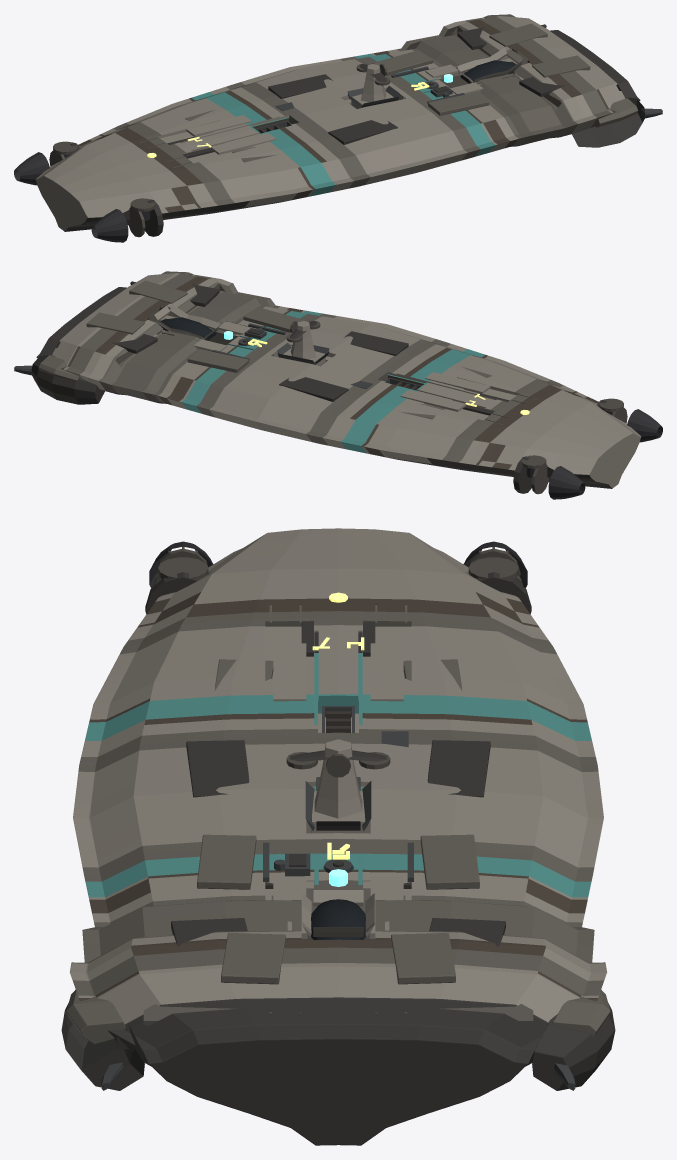
Rendered from ranger_c6_lod0.glb.
3 renders of one model, top to bottom at view 1: azimuth 30°, elevation 25°; view 2: azimuth 150°, elevation 25°; view 3: azimuth 270°, elevation 25°, orthographic. The views are drawn at different scales.
Parts seen in each view (by area): view 1: LOD0_Hull, LOD0_Collar_Port, LOD0_GunAft_Port, LOD0_Bell_Port, LOD0_Dish_Fore, LOD0_Bell_Stbd, LOD0_GunForeBrow_Port, LOD0_Glass; view 2: LOD0_Hull, LOD0_Collar_Port, LOD0_GunAft_Port, LOD0_Bell_Stbd, LOD0_Dish_Fore, LOD0_Bell_Port, LOD0_Glass, LOD0_GunForeBrow_Stbd; view 3: LOD0_Hull, LOD0_Collar_Port, LOD0_GunAft_Port, LOD0_GunForeBrow_Port, LOD0_Dish_Fore, LOD0_GunForeBrow_Stbd, LOD0_Glass, LOD0_Bell_Nozzle_Port, LOD0_Bell_Nozzle_Stbd.
Boxes of the visible parts, <box> form: LOD0_Hull: <box>35,16,640,231</box>; LOD0_Collar_Port: <box>70,64,644,236</box>; LOD0_GunAft_Port: <box>255,24,662,133</box>; LOD0_Bell_Port: <box>91,209,128,242</box>; LOD0_Dish_Fore: <box>49,63,390,237</box>; LOD0_Bell_Stbd: <box>14,152,49,185</box>; LOD0_GunForeBrow_Port: <box>594,98,638,127</box>; LOD0_Glass: <box>460,60,517,83</box>; LOD0_Hull: <box>36,273,641,488</box>; LOD0_Collar_Port: <box>31,321,606,493</box>; LOD0_GunAft_Port: <box>14,281,421,390</box>; LOD0_Bell_Stbd: <box>548,466,585,499</box>; LOD0_Dish_Fore: <box>286,320,627,494</box>; LOD0_Bell_Port: <box>627,409,662,442</box>; LOD0_Glass: <box>159,317,216,340</box>; LOD0_GunForeBrow_Stbd: <box>38,355,79,381</box>; LOD0_Hull: <box>69,528,607,1145</box>; LOD0_Collar_Port: <box>61,572,615,1090</box>; LOD0_GunAft_Port: <box>101,706,575,1090</box>; LOD0_GunForeBrow_Port: <box>66,989,125,1044</box>; LOD0_Dish_Fore: <box>154,546,522,777</box>; LOD0_GunForeBrow_Stbd: <box>552,989,610,1037</box>; LOD0_Glass: <box>311,899,365,939</box>; LOD0_Bell_Nozzle_Port: <box>158,557,208,578</box>; LOD0_Bell_Nozzle_Stbd: <box>468,557,518,578</box>.
Size of what is drawn, in the model's own units: 16.08 by 2.9 by 7.04.
